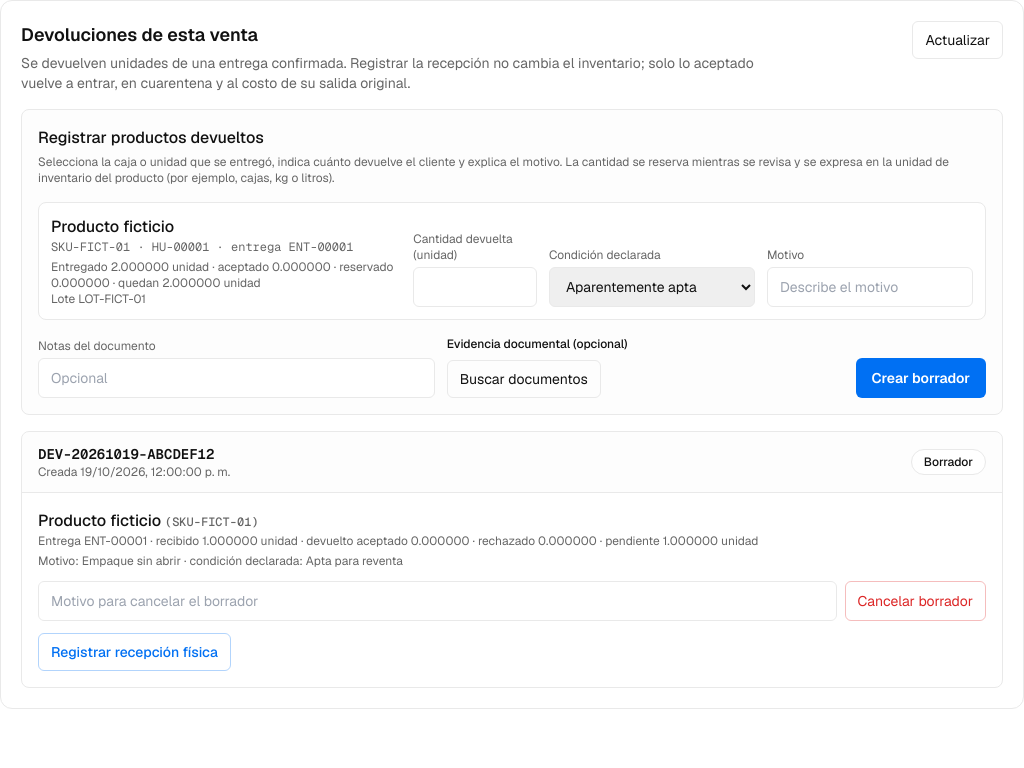
SalesReturnsPanel › reconsulta el estado si se pierde la respuesta después de aplicar la recepción
Click the button "Registrar recepción física" at (134, 652), box left=38, top=633, right=231, bottom=671
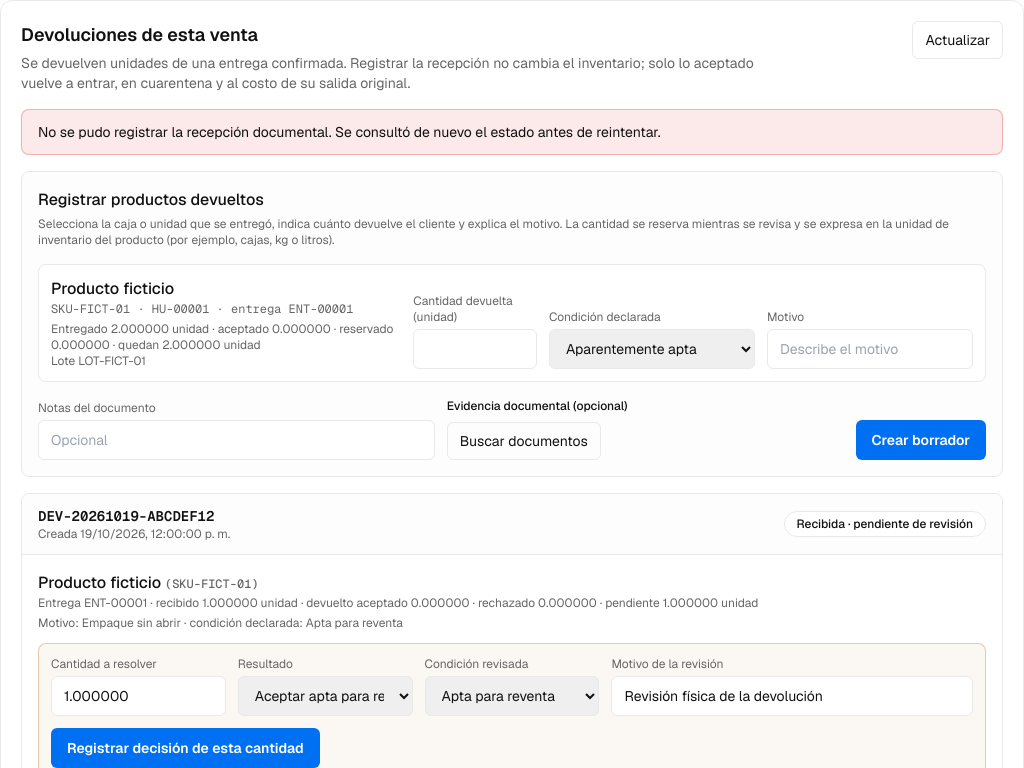
Expected: the message shows "Se consultó de nuevo el estado antes de reintentar.", left=38, top=123, right=661, bottom=141
Expected: the text "Recibida · pendiente de revisión" is shown, left=784, top=511, right=986, bottom=537
Expected: the button "Registrar recepción física" is gone
